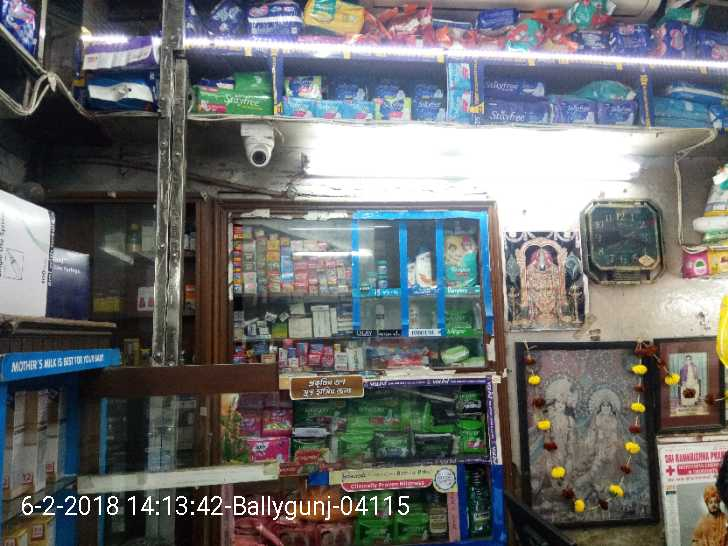vicks: (366, 259, 392, 290)
